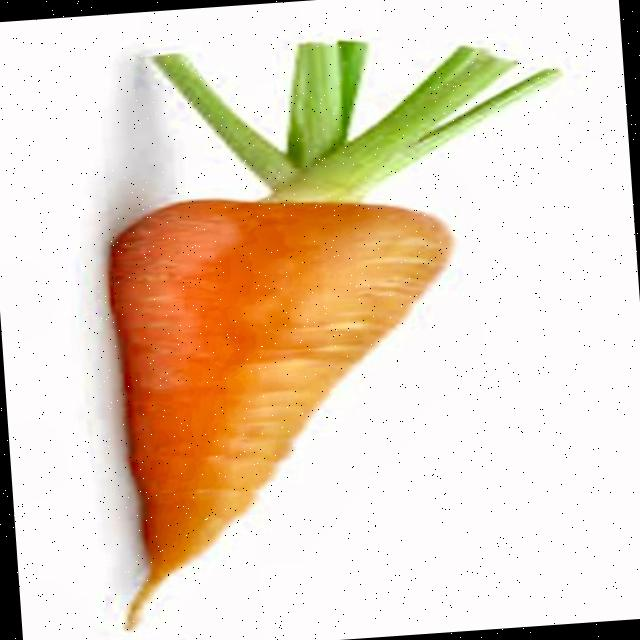carrot: (111, 41, 557, 627)
